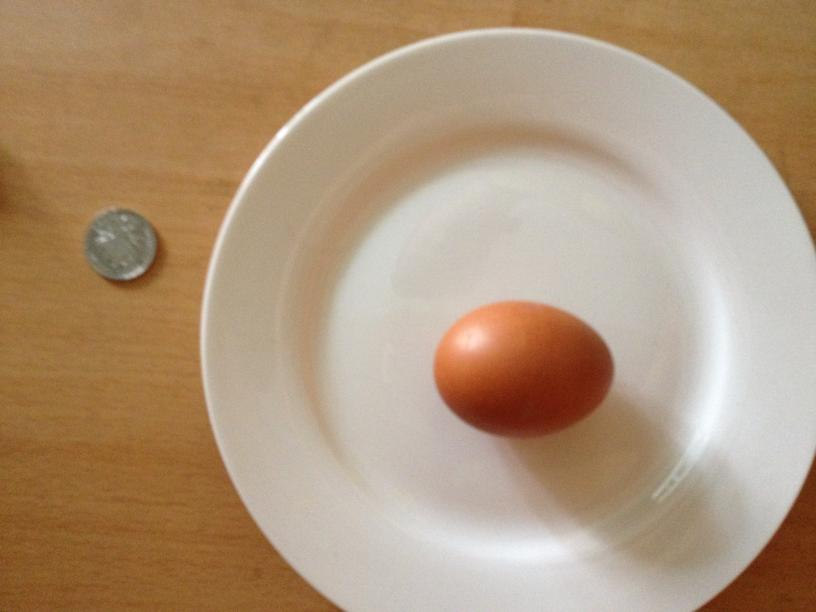coin: (81, 207, 160, 281)
egg: (435, 299, 614, 437)
